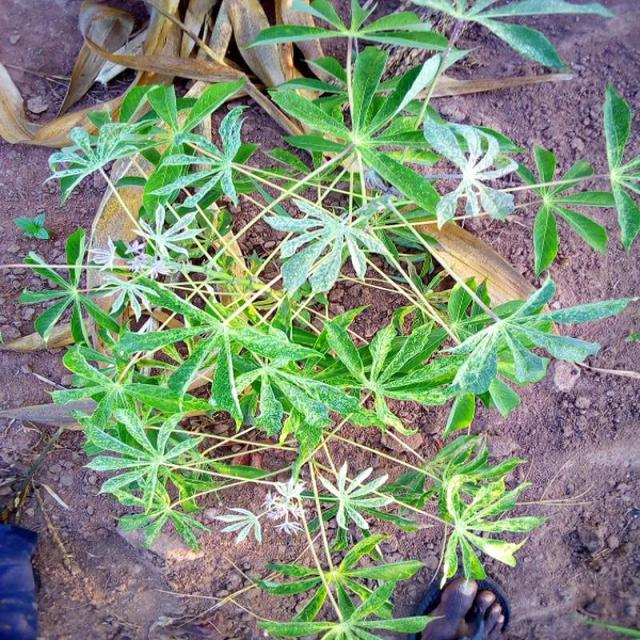cassava leaf: (11, 1, 634, 636)
